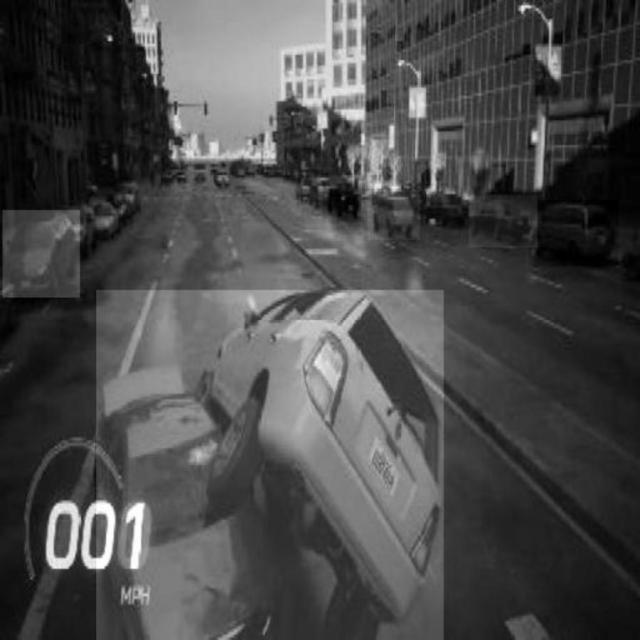accident: (97, 290, 444, 640)
vehicle: (3, 210, 80, 298), (529, 200, 619, 266), (469, 195, 537, 247), (368, 190, 420, 240), (323, 179, 365, 223)
